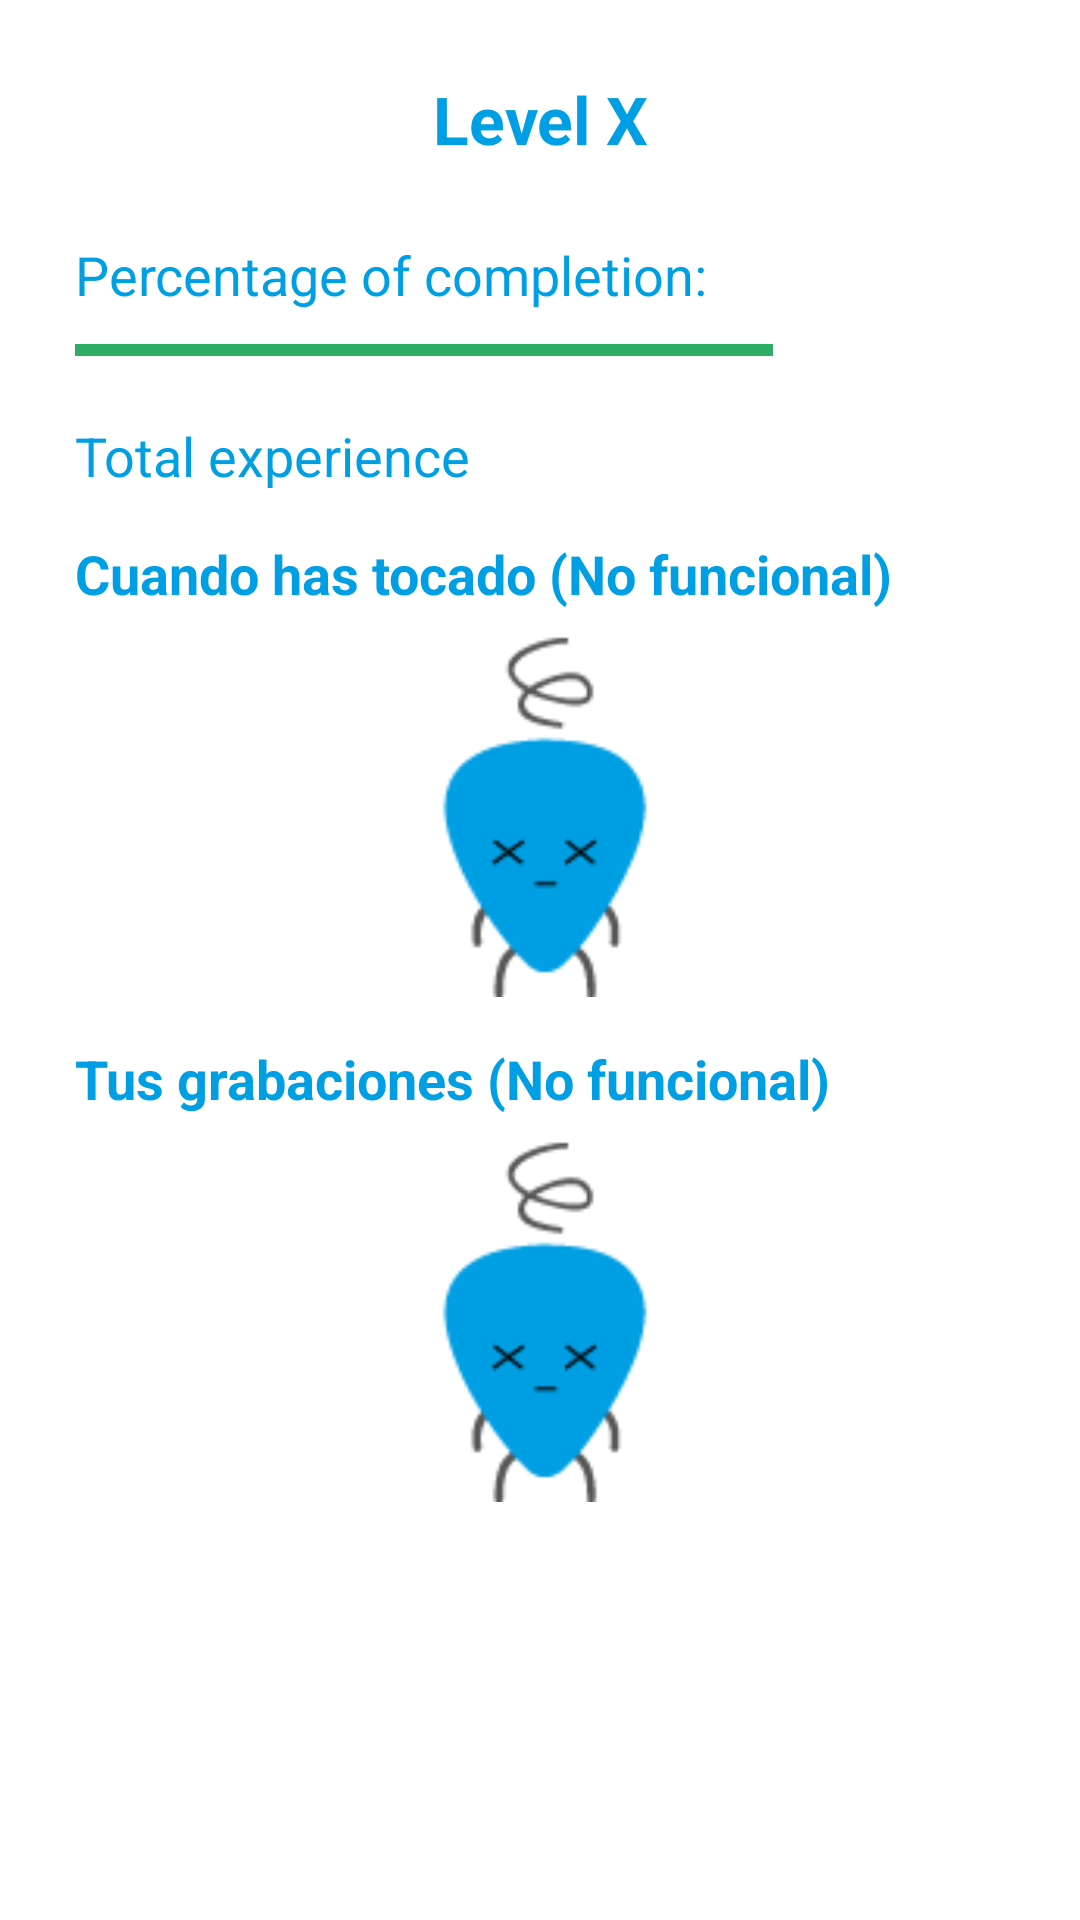

Named icons in this screenshot (1080w x 1920h) and their bounding boxes, (x1, y1, x2, y2):
chordy bad: (442, 637, 647, 997), (442, 1142, 647, 1502)
